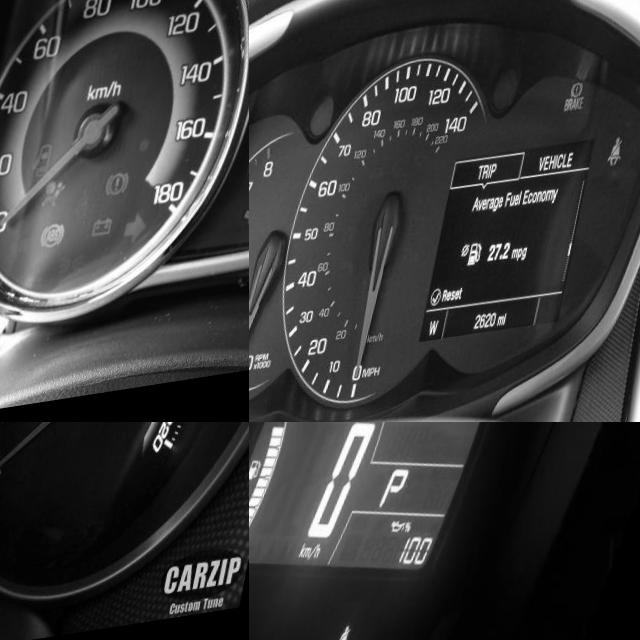Doors: (45, 147, 69, 182)
